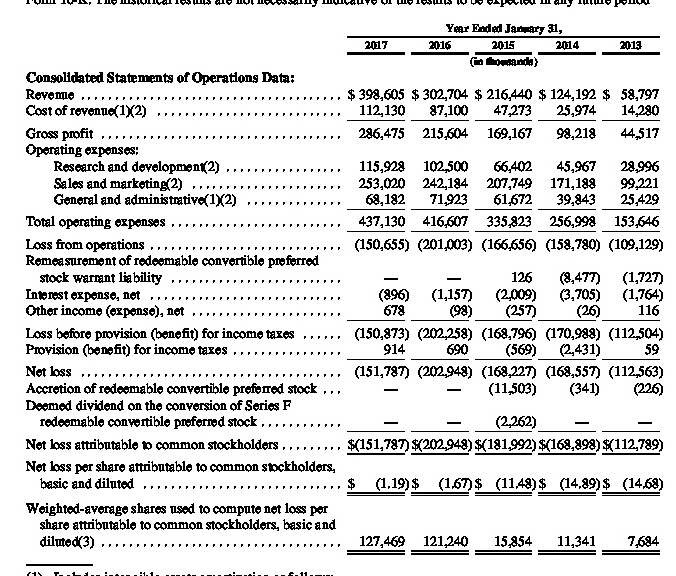table: (0, 0, 676, 576)
